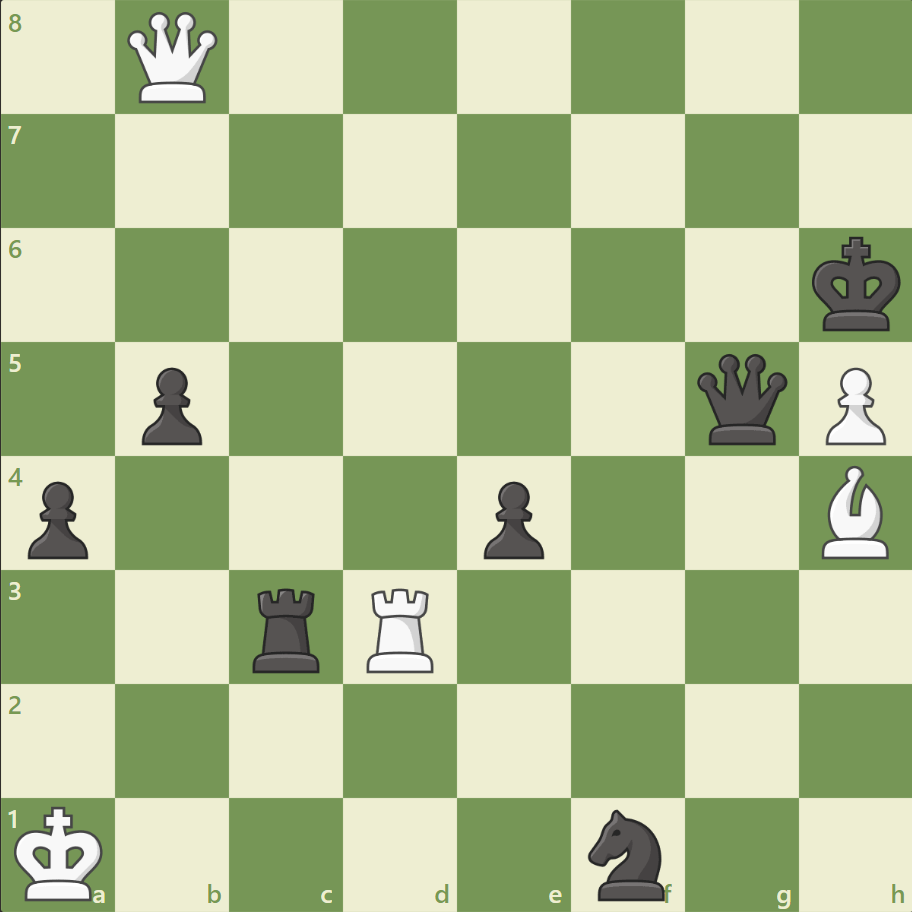B: (812, 460, 896, 563)
K: (11, 798, 111, 906)
P: (815, 359, 889, 450)
Q: (124, 9, 223, 108)
R: (360, 579, 442, 676)
k: (806, 231, 906, 339)
n: (579, 802, 676, 904)
p: (133, 359, 208, 450), (20, 473, 95, 564), (474, 473, 549, 564)
q: (691, 349, 790, 449)
r: (246, 579, 329, 676)
